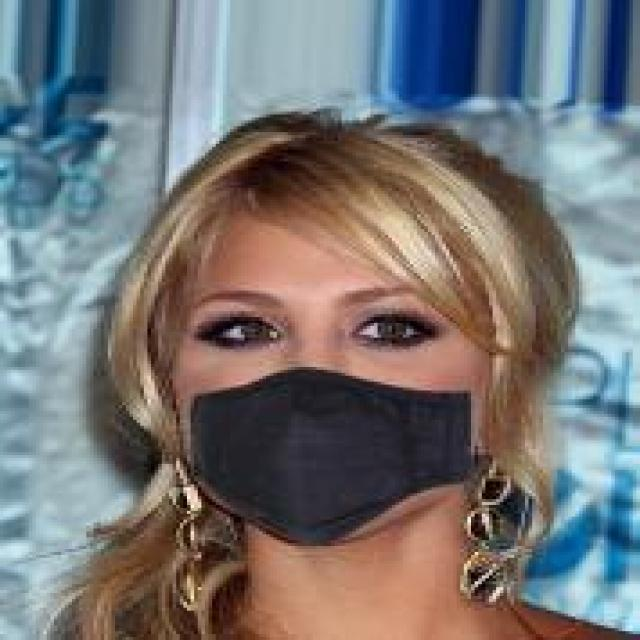mask: (155, 76, 561, 561)
